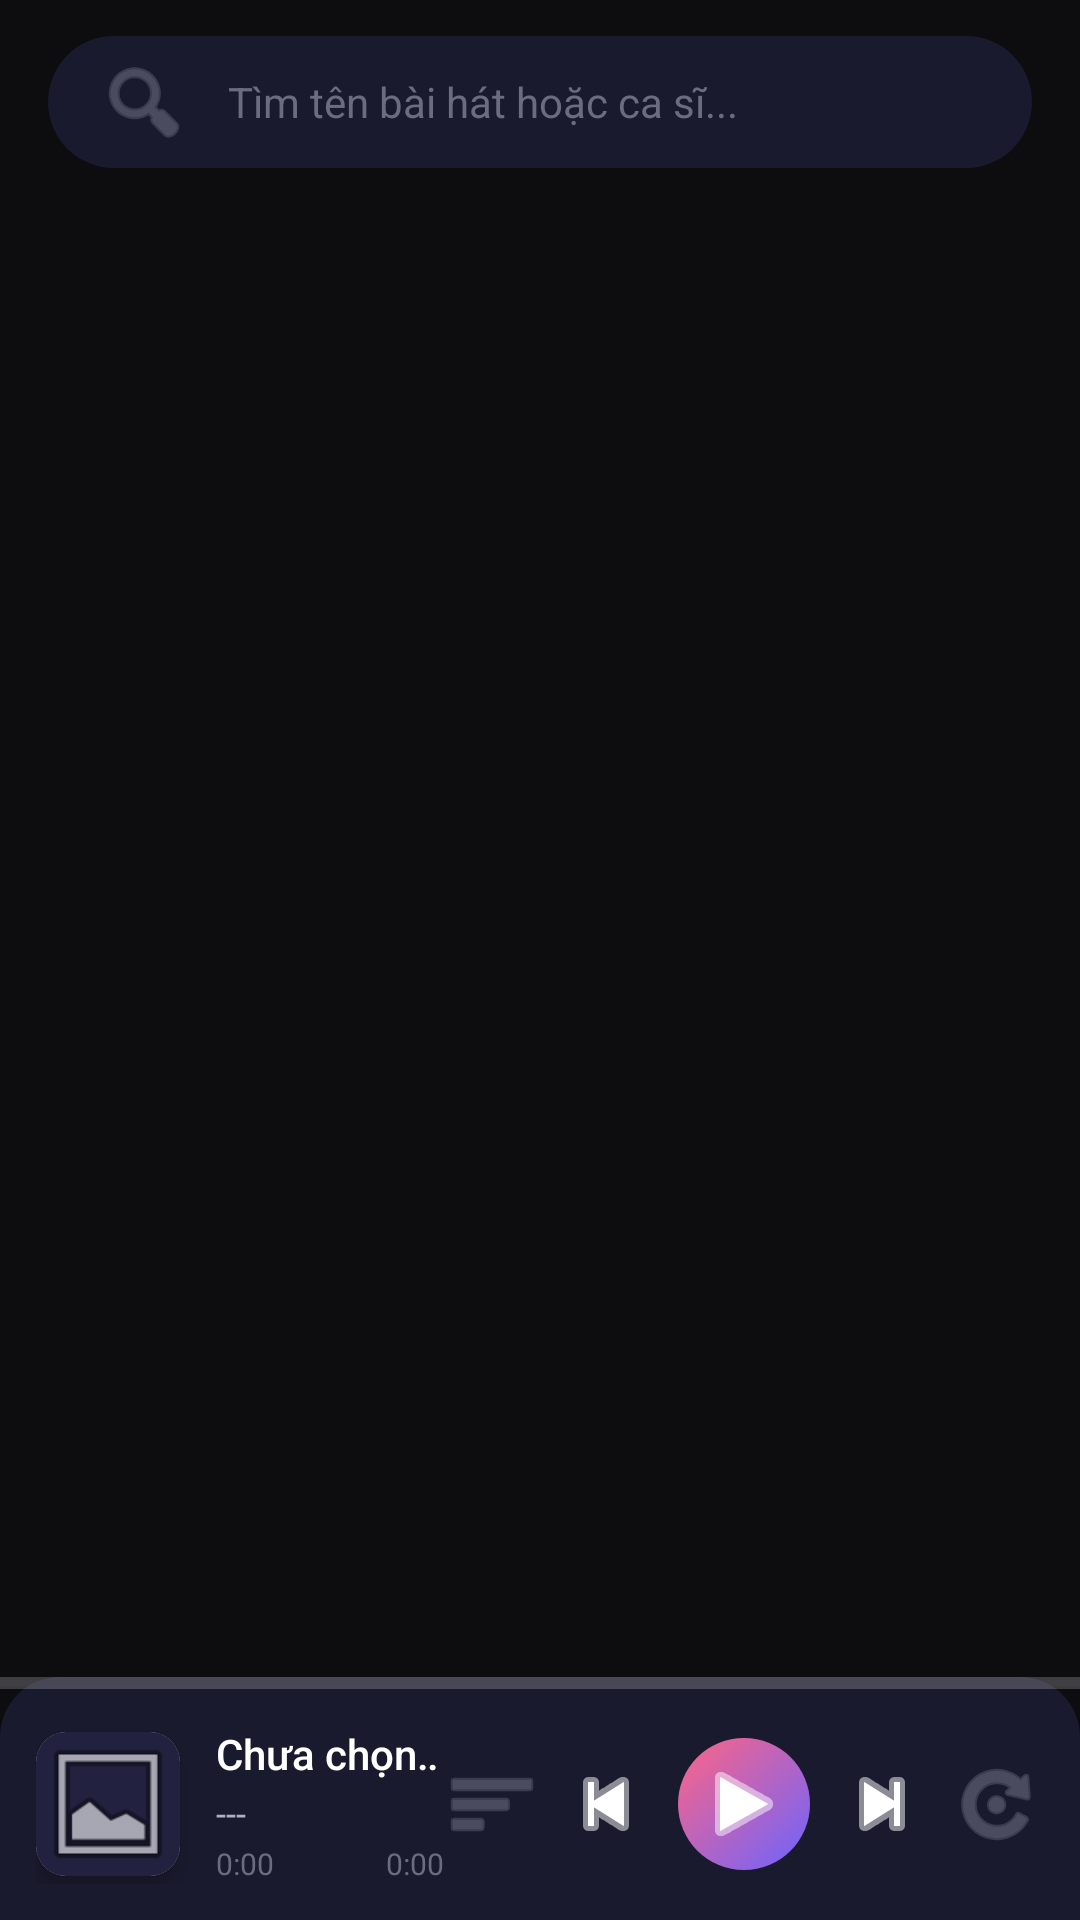

Where to tap for icons on this 1080px×1920px app screen, as (x=x, y=y):
gallery: (x=108, y=1804)
next: (x=882, y=1804)
play: (x=744, y=1804)
previous: (x=606, y=1804)
rotate: (x=996, y=1804)
